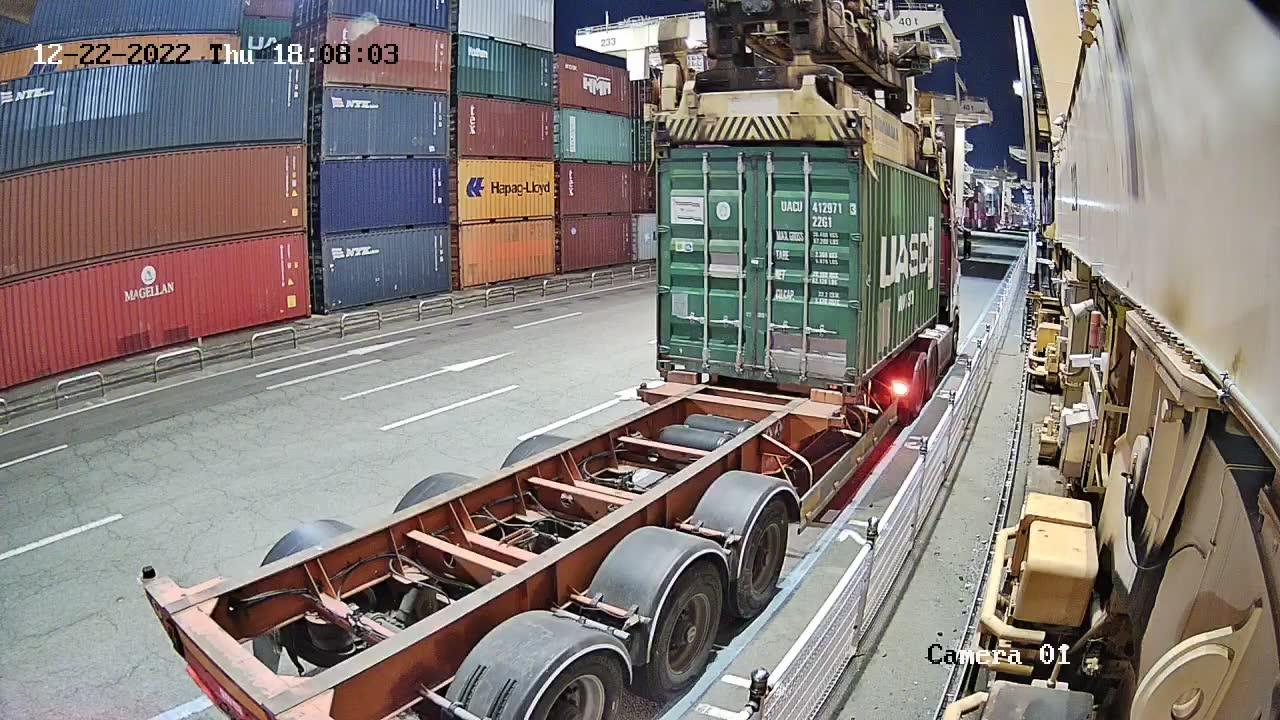Chassis: (660, 371, 853, 407)
Cone: (842, 396, 858, 407), (656, 372, 666, 381)
Hole_L: (657, 344, 688, 371)
Hole_R: (827, 364, 858, 396)
Tire: (913, 368, 925, 416), (927, 351, 938, 396)
